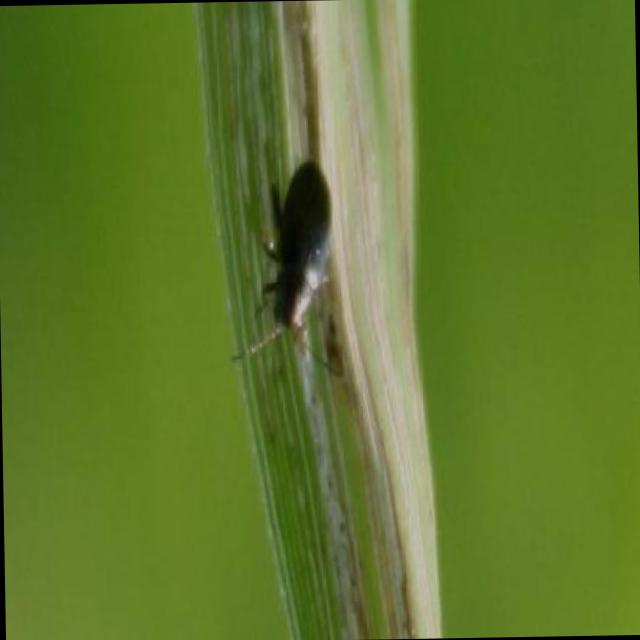rice-bug: (254, 160, 336, 338)
